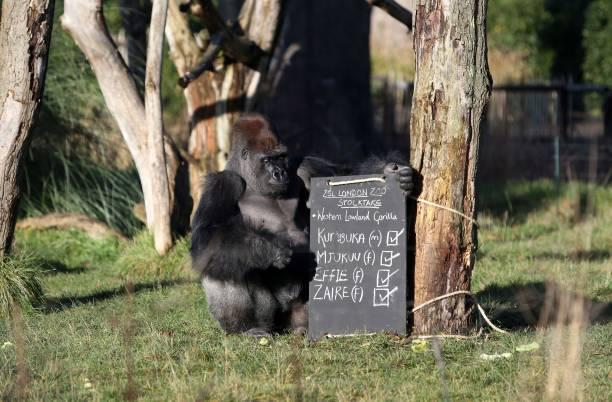gorille_Autres: (184, 94, 308, 347)
